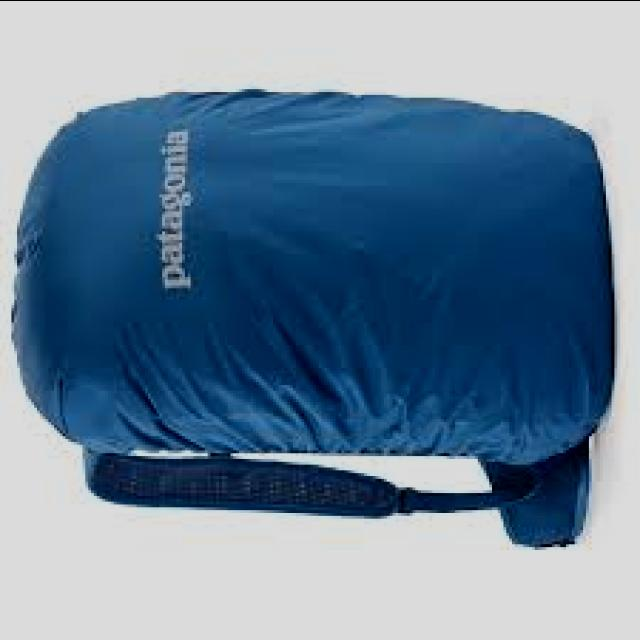backpack: (10, 89, 616, 550)
